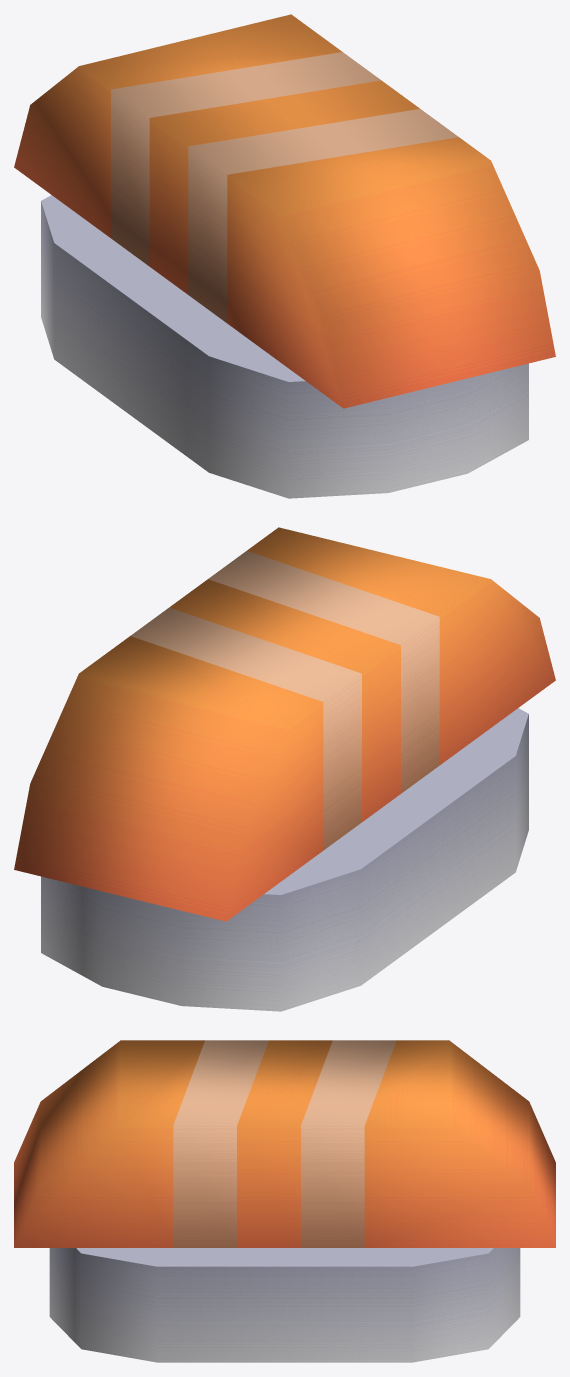
The model's file is sushi-salmon.glb.
3 views of the same model, one above another, from view 1: azimuth 30°, elevation 25°; view 2: azimuth 150°, elevation 25°; view 3: azimuth 270°, elevation 25° (orthographic). The views are drawn at different scales.
Parts seen in each view (by area): view 1: sushi-salmon; view 2: sushi-salmon; view 3: sushi-salmon.
Boxes of the visible parts, bbox=[...] form: sushi-salmon: bbox=[14, 14, 555, 498]; sushi-salmon: bbox=[14, 527, 555, 1011]; sushi-salmon: bbox=[14, 1040, 555, 1362].
Size of the model in its own units: 0.1079 by 0.0892 by 0.2008.
Materials: 1 (1 with a texture image).
